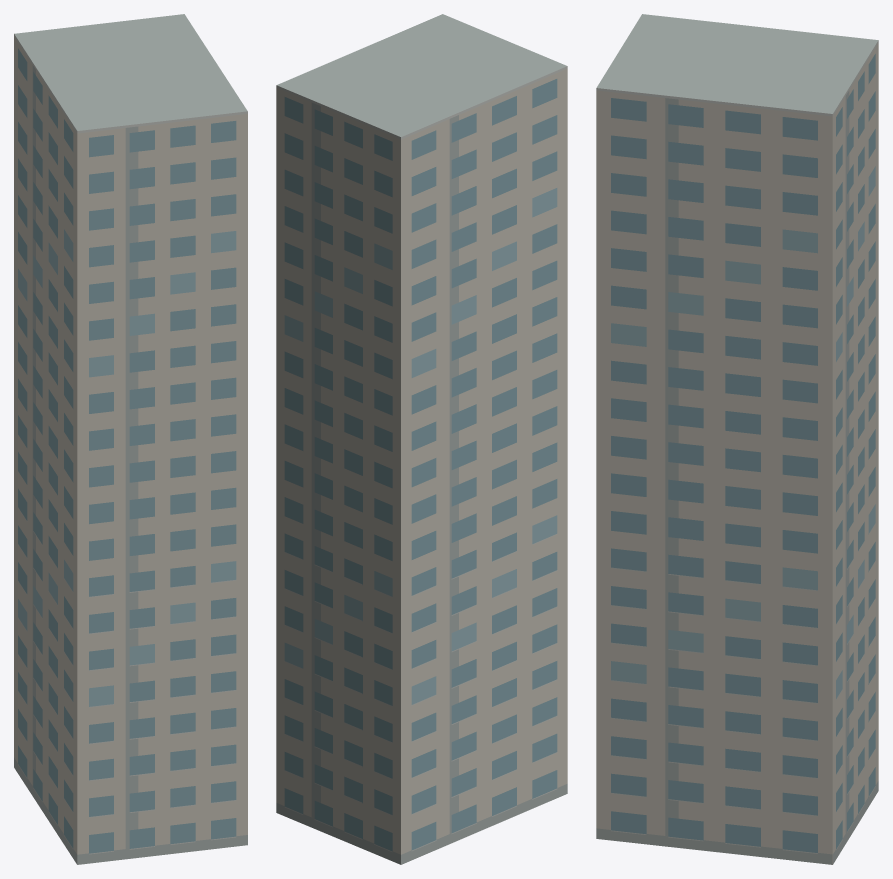
File: residential-4c5aba40-17a3-4433-afcb-3f034666ad10.glb
3 renders of one model, left to right at view 1: azimuth 30°, elevation 25°; view 2: azimuth 150°, elevation 25°; view 3: azimuth 270°, elevation 25°, orthographic. The views are drawn at different scales.
Parts seen in each view (by area): view 1: residential-4c5aba40-17a3-4433-afcb-3f034666ad10.tmp; view 2: residential-4c5aba40-17a3-4433-afcb-3f034666ad10.tmp; view 3: residential-4c5aba40-17a3-4433-afcb-3f034666ad10.tmp.
Boxes of the visible parts, x1,y1,x2,y2 form: residential-4c5aba40-17a3-4433-afcb-3f034666ad10.tmp: [14, 14, 247, 864]; residential-4c5aba40-17a3-4433-afcb-3f034666ad10.tmp: [276, 14, 567, 864]; residential-4c5aba40-17a3-4433-afcb-3f034666ad10.tmp: [596, 14, 878, 864].
Size of the model in its own units: 20.87 by 73 by 24.87.
